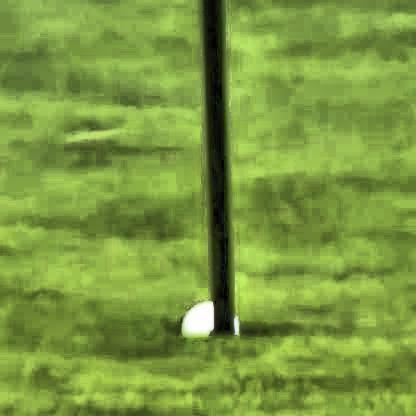golfball: (176, 308, 238, 345)
